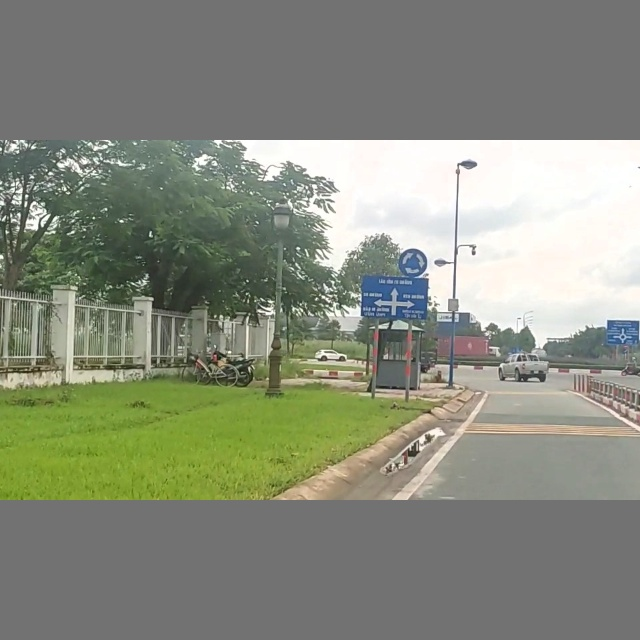R.303: (397, 249, 431, 275)
